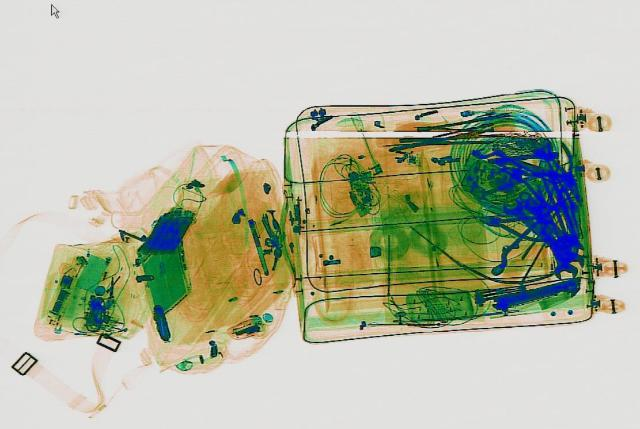Pliers: (538, 137, 590, 201), (472, 206, 550, 241)
Wrench: (495, 196, 591, 271), (514, 188, 588, 267), (520, 199, 580, 280)
